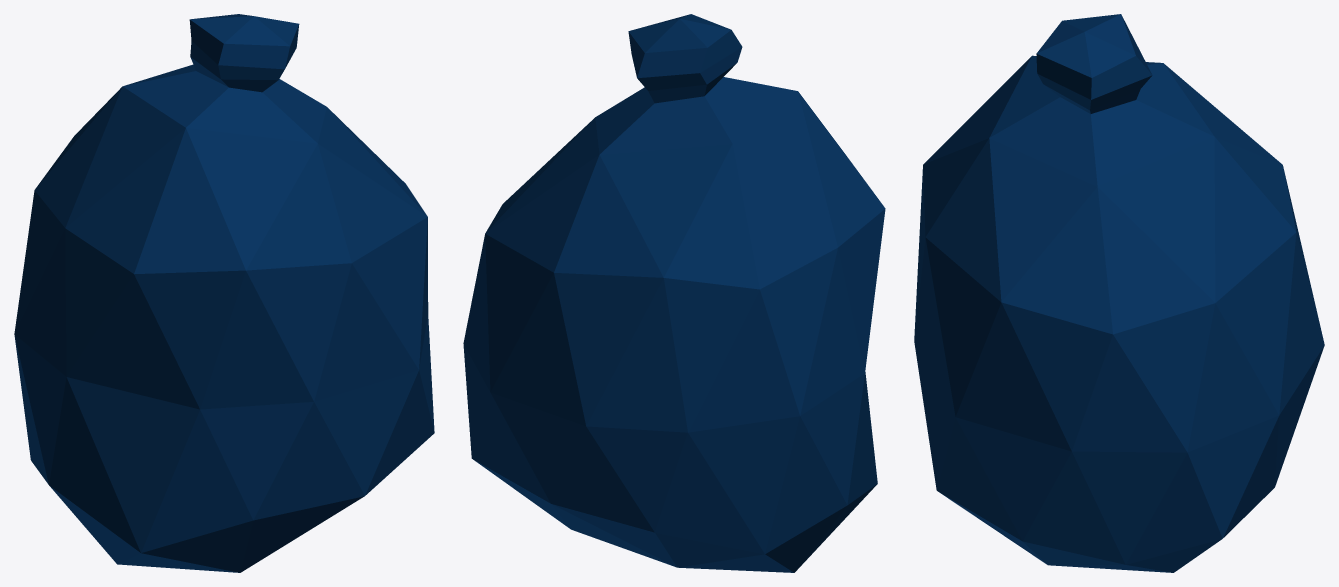
The model's file is Garbage1.fbx.
3 views of the same model, side by side, from view 1: azimuth 30°, elevation 25°; view 2: azimuth 150°, elevation 25°; view 3: azimuth 270°, elevation 25° (orthographic). The views are drawn at different scales.
Parts seen in each view (by area): view 1: Garbage2; view 2: Garbage2; view 3: Garbage2.
Part boxes in pixels (box(x1,y1,x2,y2)): Garbage2: box(14, 14, 434, 572); Garbage2: box(463, 14, 885, 572); Garbage2: box(914, 14, 1324, 572).
Size of the model in its own units: 0.5195 by 0.5121 by 0.742.
